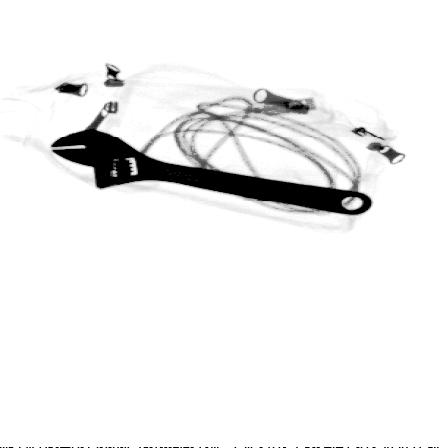Wrench: (50, 127, 375, 217)
